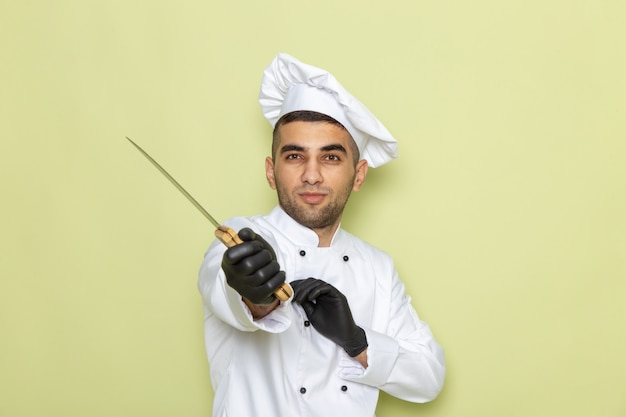knife: (125, 136, 241, 248)
